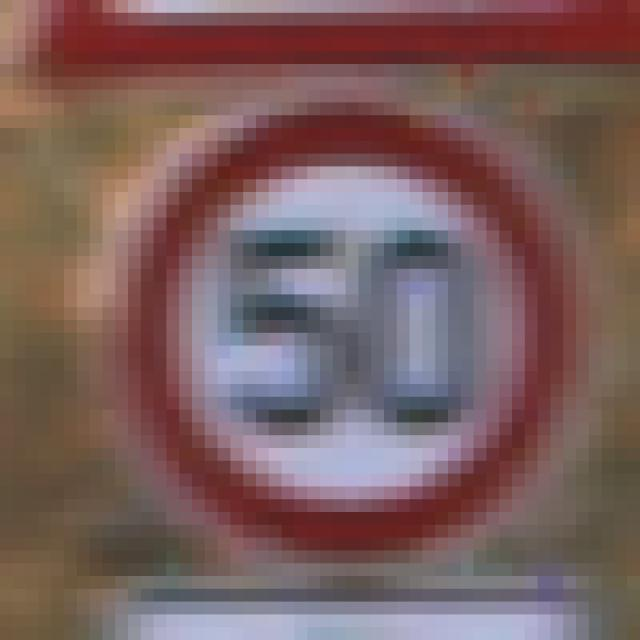Limite-50: (106, 91, 588, 567)
